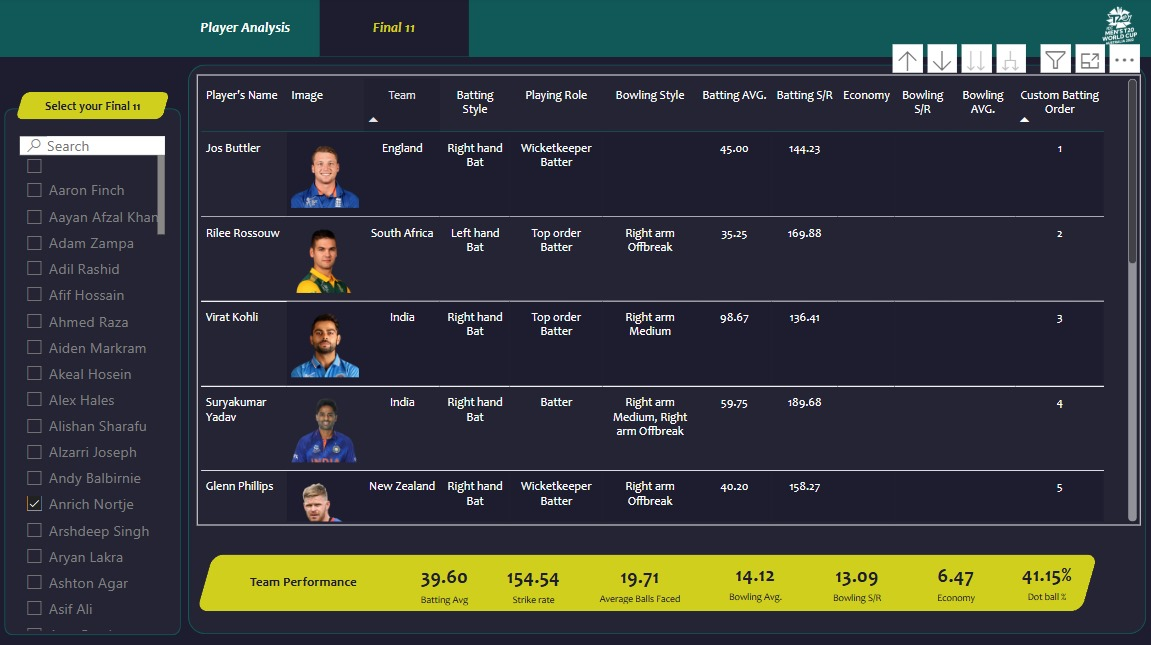

Layout of this report page (visuals, bound fields, positions):
{"tool":"powerbi","page":{"name":"New Final11","canvas":[1280,720],"ordinal":5},"visuals":[{"type":"shape","box":[0,66,1280,654],"z":0},{"type":"image","box":[1220,3,48,59],"z":1000},{"type":"shape","box":[7,122.9,196,585.1],"z":1000,"group":"g1"},{"type":"shape","box":[210.7,75.5,1063.4,632.2],"z":2000},{"type":"actionButton","title":"Button Player Ana selected","box":[357,0,166,66],"z":3000},{"type":"actionButton","title":"Button Player Ana selected","box":[191.4,0,165.7,65.7],"z":4000},{"type":"group","id":"g1","title":"Group 1","box":[7,122.9,196,585.1],"z":6000},{"type":"shape","box":[19.6,104.9,171.5,30.4],"z":7000},{"type":"pivotTable","fields":{"Values":["Min(dim_player.team)","Min(dim_player.Batting Style)","Min(dim_player.Playing Role)","Min(dim_player.Bowling Style)","Key_Measures.Bat Avg","Key_Measures.Strike rate","Key_Measures.Economy","Key_Measures.Bowling Strike Rate","Key_Measures.Bowling Average","Sum(dim_player.Custom Batting Order)"],"Rows":["dim_player.name","dim_player.image"]},"box":[219.9,85.4,1048,501.1],"z":8000},{"type":"shape","box":[219.9,618.4,999.7,63],"z":9000},{"type":"card","fields":{"Values":["Key_Measures.Strike rate"]},"box":[548.4,620.2,93,60],"z":10000},{"type":"slicer","fields":{"Values":["dim_player.name"]},"box":[19.7,149.3,170.5,558.7],"z":11000,"group":"g1"},{"type":"card","fields":{"Values":["Key_Measures.Avergate Balls Faced"]},"box":[657.3,621.9,109.5,56.9],"z":11000},{"type":"card","fields":{"Values":["Key_Measures.Bat Avg"]},"box":[449.4,620.2,92,60],"z":12000},{"type":"card","fields":{"Values":["Key_Measures.Bowling Strike Rate"]},"box":[907.4,618.4,92.3,60.4],"z":13000},{"type":"card","fields":{"Values":["Key_Measures.Economy"]},"box":[1012.6,618.4,100.9,60.4],"z":14000},{"type":"card","fields":{"Values":["Key_Measures.Dot ball %"]},"box":[1113.5,617.6,100.1,60.4],"z":15000},{"type":"card","fields":{"Values":["Key_Measures.Bowling Average"]},"box":[794.4,617.6,91.4,60.4],"z":16000},{"type":"shape","box":[251.8,632.1,172.5,34.3],"z":17000}]}

Visuals, with their boxes in screenshot pixels (x1, y1, x2, y2), scaled from the page's 1280x720 canvas onto the 1151x645 screenshot:
shape: select_region(0, 59, 1150, 644)
image: select_region(1097, 3, 1140, 56)
shape: select_region(6, 110, 183, 634)
shape: select_region(189, 68, 1146, 634)
"Button Player Ana selected" actionButton: select_region(321, 0, 470, 59)
"Button Player Ana selected" actionButton: select_region(172, 0, 321, 59)
"Group 1" group: select_region(6, 110, 183, 634)
shape: select_region(18, 94, 172, 121)
pivotTable - Min(dim_player.team) x Min(dim_player.Batting Style): select_region(198, 77, 1140, 525)
shape: select_region(198, 554, 1097, 610)
card - Key_Measures.Strike rate: select_region(493, 556, 577, 609)
slicer - dim_player.name: select_region(18, 134, 171, 634)
card - Key_Measures.Avergate Balls Faced: select_region(591, 557, 690, 608)
card - Key_Measures.Bat Avg: select_region(404, 556, 487, 609)
card - Key_Measures.Bowling Strike Rate: select_region(816, 554, 899, 608)
card - Key_Measures.Economy: select_region(911, 554, 1001, 608)
card - Key_Measures.Dot ball %: select_region(1001, 553, 1091, 607)
card - Key_Measures.Bowling Average: select_region(714, 553, 797, 607)
shape: select_region(226, 566, 382, 597)
